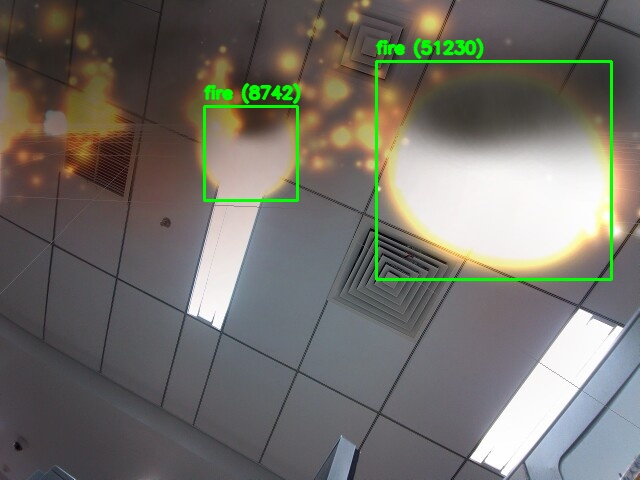fire: (376, 61, 611, 279), (204, 106, 297, 200)
